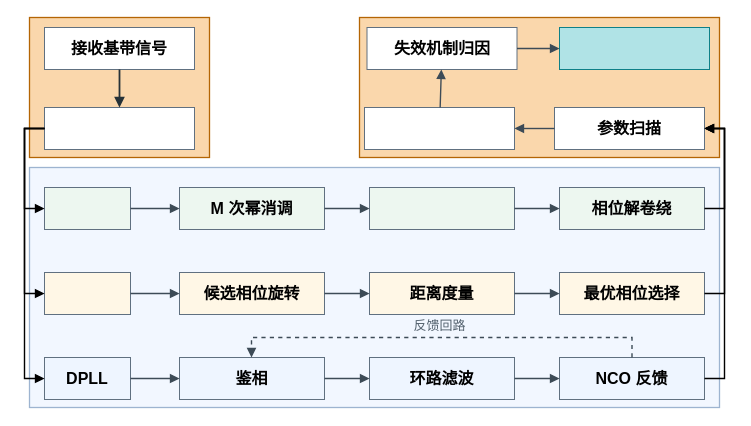
This 751x426 diagram has some shape labels left out. Here are the shapes that lost their labels. From the top down, the centre of each, then its label:
At (x=634, y=48): "参数设计准则".
At (x=119, y=128): "粗频偏估计与补偿".
At (x=439, y=128): "性能边界识别".
At (x=87, y=208): "VV".
At (x=441, y=208): "窗口平均".
At (x=87, y=293): "BPS".
